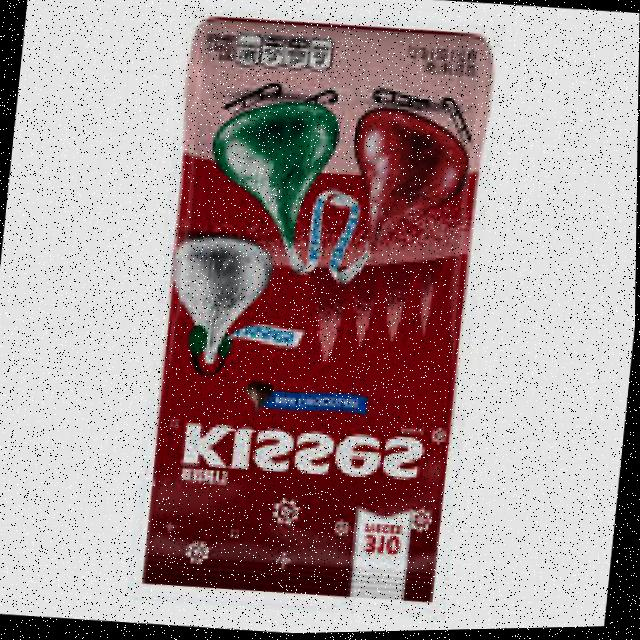kisses: (162, 222, 278, 375)
